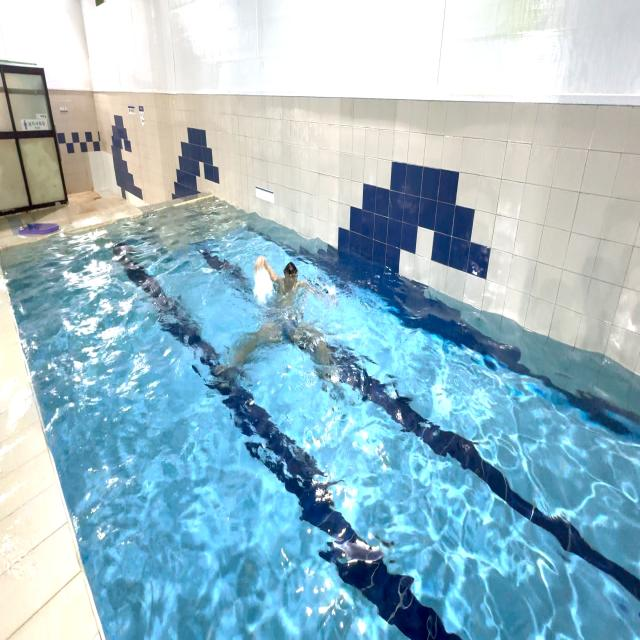Drowning: (217, 249, 339, 365)
